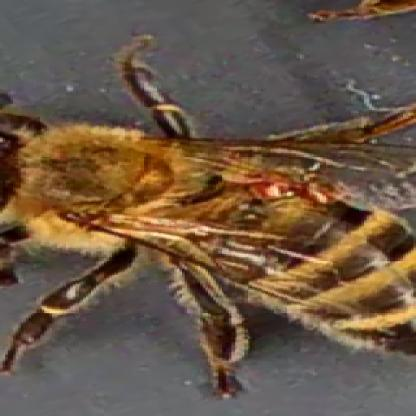bee: (8, 101, 416, 374)
vaoora: (249, 165, 293, 196), (304, 184, 327, 204)
